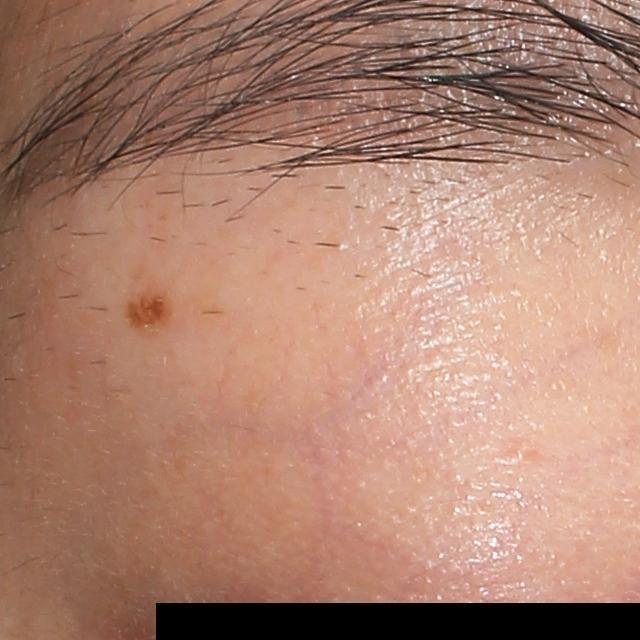nevus: (121, 280, 180, 332)
